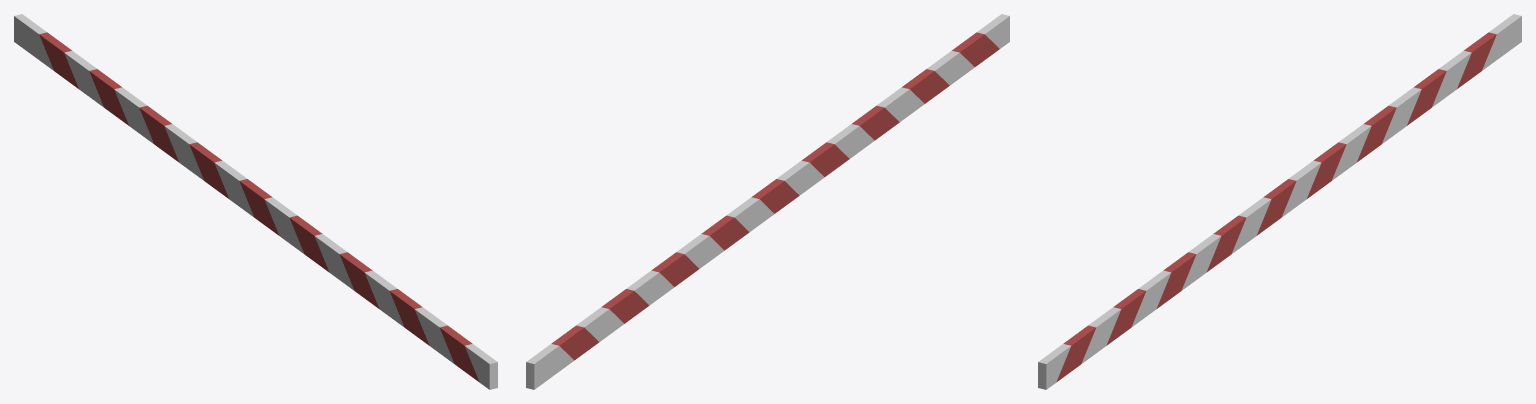
The model's file is Schranke.fbx.
3 renders of one model, left to right at view 1: azimuth 30°, elevation 25°; view 2: azimuth 150°, elevation 25°; view 3: azimuth 330°, elevation 25°, orthographic.
Parts seen in each view (by area): view 1: s_zylinder2; view 2: s_zylinder2; view 3: s_zylinder2.
Boxes of the visible parts, bbox=[...] form: s_zylinder2: bbox=[14, 14, 497, 389]; s_zylinder2: bbox=[526, 14, 1009, 389]; s_zylinder2: bbox=[1038, 14, 1521, 389].
Bounding box in the file's own units: 5 × 15 × 500.
